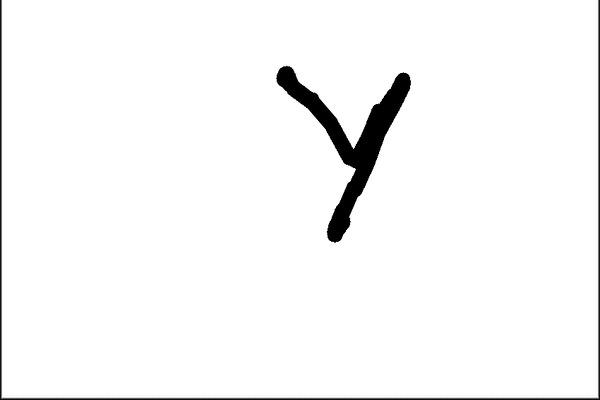Y: (265, 60, 422, 249)
